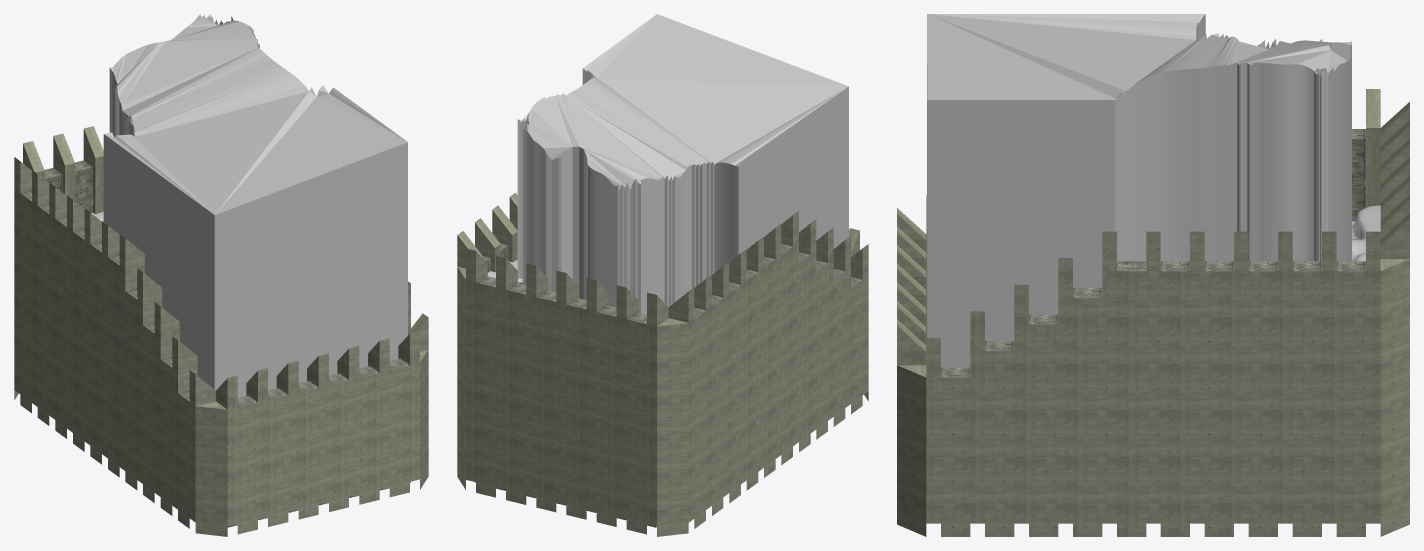
Rendered from Dragonfly_Waterway.fbx.
The picture shows the model from 3 angles, left to right: view 1: azimuth 30°, elevation 25°; view 2: azimuth 150°, elevation 25°; view 3: azimuth 270°, elevation 25°; orthographic projection. The views are drawn at different scales.
Visible parts, largest first — view 1: InvisWall, External Walls; view 2: External Walls, InvisWall; view 3: External Walls, InvisWall, Terrain.
Part boxes in pixels (x1=…): InvisWall: x1=103, y1=14, x2=407, y2=397; External Walls: x1=14, y1=126, x2=428, y2=536; External Walls: x1=457, y1=192, x2=868, y2=536; InvisWall: x1=517, y1=14, x2=848, y2=314; External Walls: x1=897, y1=89, x2=1409, y2=536; InvisWall: x1=927, y1=14, x2=1351, y2=367; Terrain: x1=1352, y1=205, x2=1380, y2=261.
Bounding box in the file's own units: 116 × 169 × 175.
